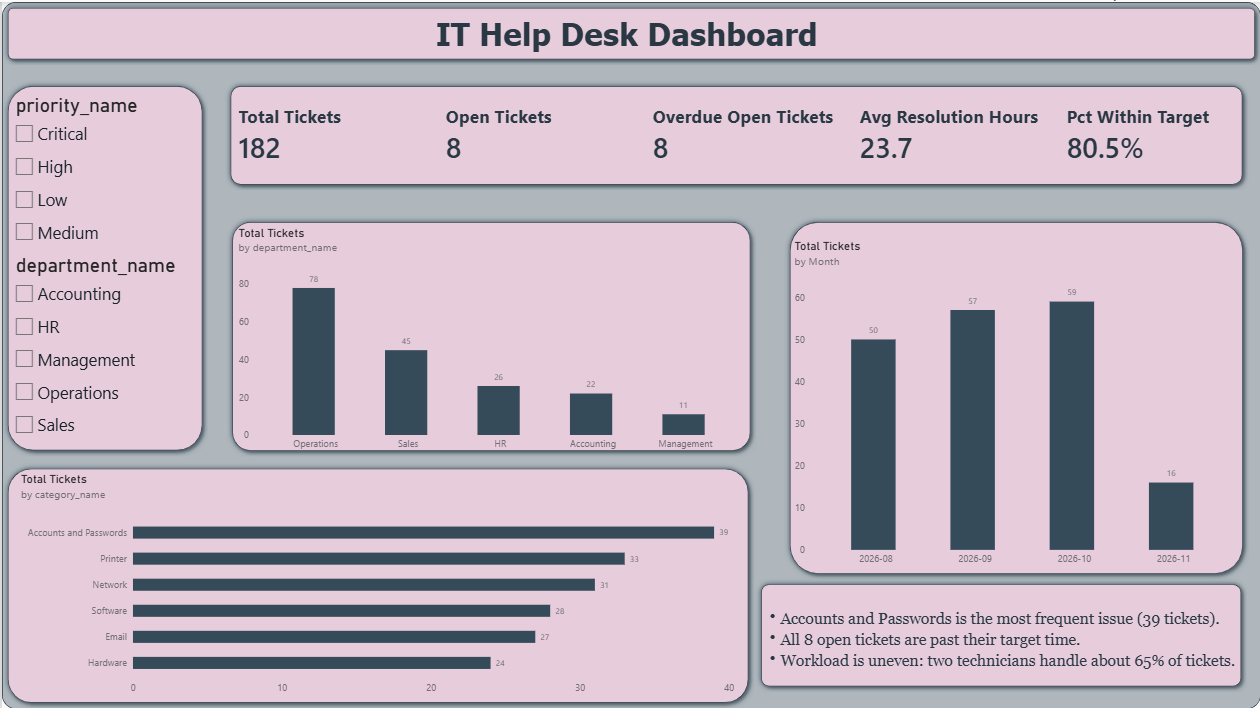

This screenshot's page, from the dashboard's own definition file:
{"tool":"powerbi","page":{"name":"overview","canvas":[1920,1080],"ordinal":0},"visuals":[{"type":"shape","box":[0,0,1921,1079.2],"z":0},{"type":"shape","box":[0,118.7,314.6,574.1],"z":1000},{"type":"shape","box":[339.5,118.7,1562.2,168.4],"z":2000},{"type":"shape","box":[342.2,325.7,808.7,367.1],"z":3000},{"type":"shape","box":[0,703.8,1148.2,375.4],"z":4000},{"type":"shape","box":[1192.3,325.7,709.3,554.8],"z":5000},{"type":"cardVisual","fields":{"Data":["help_desk tickets.Total Tickets","help_desk tickets.Open Tickets","help_desk tickets.Overdue Open Tickets","help_desk tickets.Avg Resolution Hours","help_desk tickets.Pct Within Target"]},"box":[345,118.7,1576,168.4],"z":6000},{"type":"clusteredBarChart","fields":{"Category":["help_desk categories.category_name"],"Y":["help_desk tickets.Total Tickets"]},"box":[13.8,703.8,1120.6,375.4],"z":7000},{"type":"clusteredColumnChart","fields":{"Category":["help_desk tickets.Month"],"Y":["help_desk tickets.Total Tickets"]},"box":[1192.3,347.8,709.3,532.7],"z":8000},{"type":"clusteredColumnChart","fields":{"Category":["help_desk departments.department_name"],"Y":["help_desk tickets.Total Tickets"]},"box":[345,325.7,805.9,378.1],"z":9000},{"type":"slicer","fields":{"Values":["help_desk priorities.priority_name"]},"box":[13.8,140.8,287,265],"z":10000},{"type":"slicer","fields":{"Values":["help_desk departments.department_name"]},"box":[13.8,383.6,287,309.1],"z":11000},{"type":"shape","box":[0,0,1921,96.6],"z":12000},{"type":"textbox","box":[0,19.3,1921,77.3],"z":13000},{"type":"textbox","box":[1148.2,924.6,753.5,27.6],"z":13001},{"type":"shape","box":[1148.2,880.5,750.7,173.9],"z":13002},{"type":"textbox","box":[1150.9,924.6,748,129.7],"z":13003}]}

Visuals, with their boxes in screenshot pixels (x1, y1, x2, y2), scaled from the page's 1920x1080 canvas onto the 1260x708 screenshot:
shape: <bbox>0, 0, 1259, 707</bbox>
shape: <bbox>0, 78, 206, 454</bbox>
shape: <bbox>223, 78, 1248, 188</bbox>
shape: <bbox>225, 214, 755, 454</bbox>
shape: <bbox>0, 461, 754, 707</bbox>
shape: <bbox>782, 214, 1248, 577</bbox>
cardVisual - help_desk tickets.Total Tickets x help_desk tickets.Open Tickets: <bbox>226, 78, 1259, 188</bbox>
clusteredBarChart - help_desk categories.category_name x help_desk tickets.Total Tickets: <bbox>9, 461, 744, 707</bbox>
clusteredColumnChart - help_desk tickets.Month x help_desk tickets.Total Tickets: <bbox>782, 228, 1248, 577</bbox>
clusteredColumnChart - help_desk departments.department_name x help_desk tickets.Total Tickets: <bbox>226, 214, 755, 461</bbox>
slicer - help_desk priorities.priority_name: <bbox>9, 92, 197, 266</bbox>
slicer - help_desk departments.department_name: <bbox>9, 251, 197, 454</bbox>
shape: <bbox>0, 0, 1259, 63</bbox>
textbox: <bbox>0, 13, 1259, 63</bbox>
textbox: <bbox>754, 606, 1248, 624</bbox>
shape: <bbox>754, 577, 1246, 691</bbox>
textbox: <bbox>755, 606, 1246, 691</bbox>
